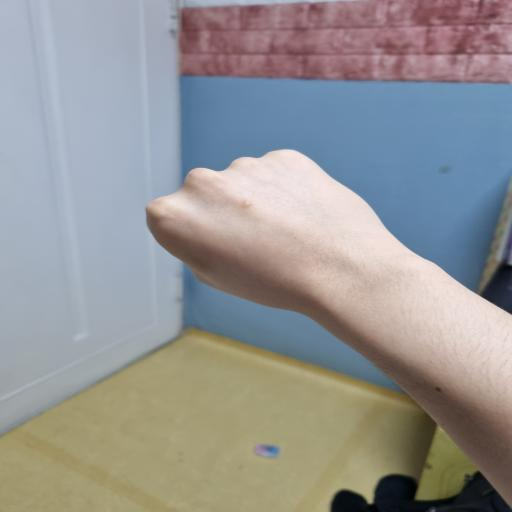Rock: (145, 149, 396, 315)
